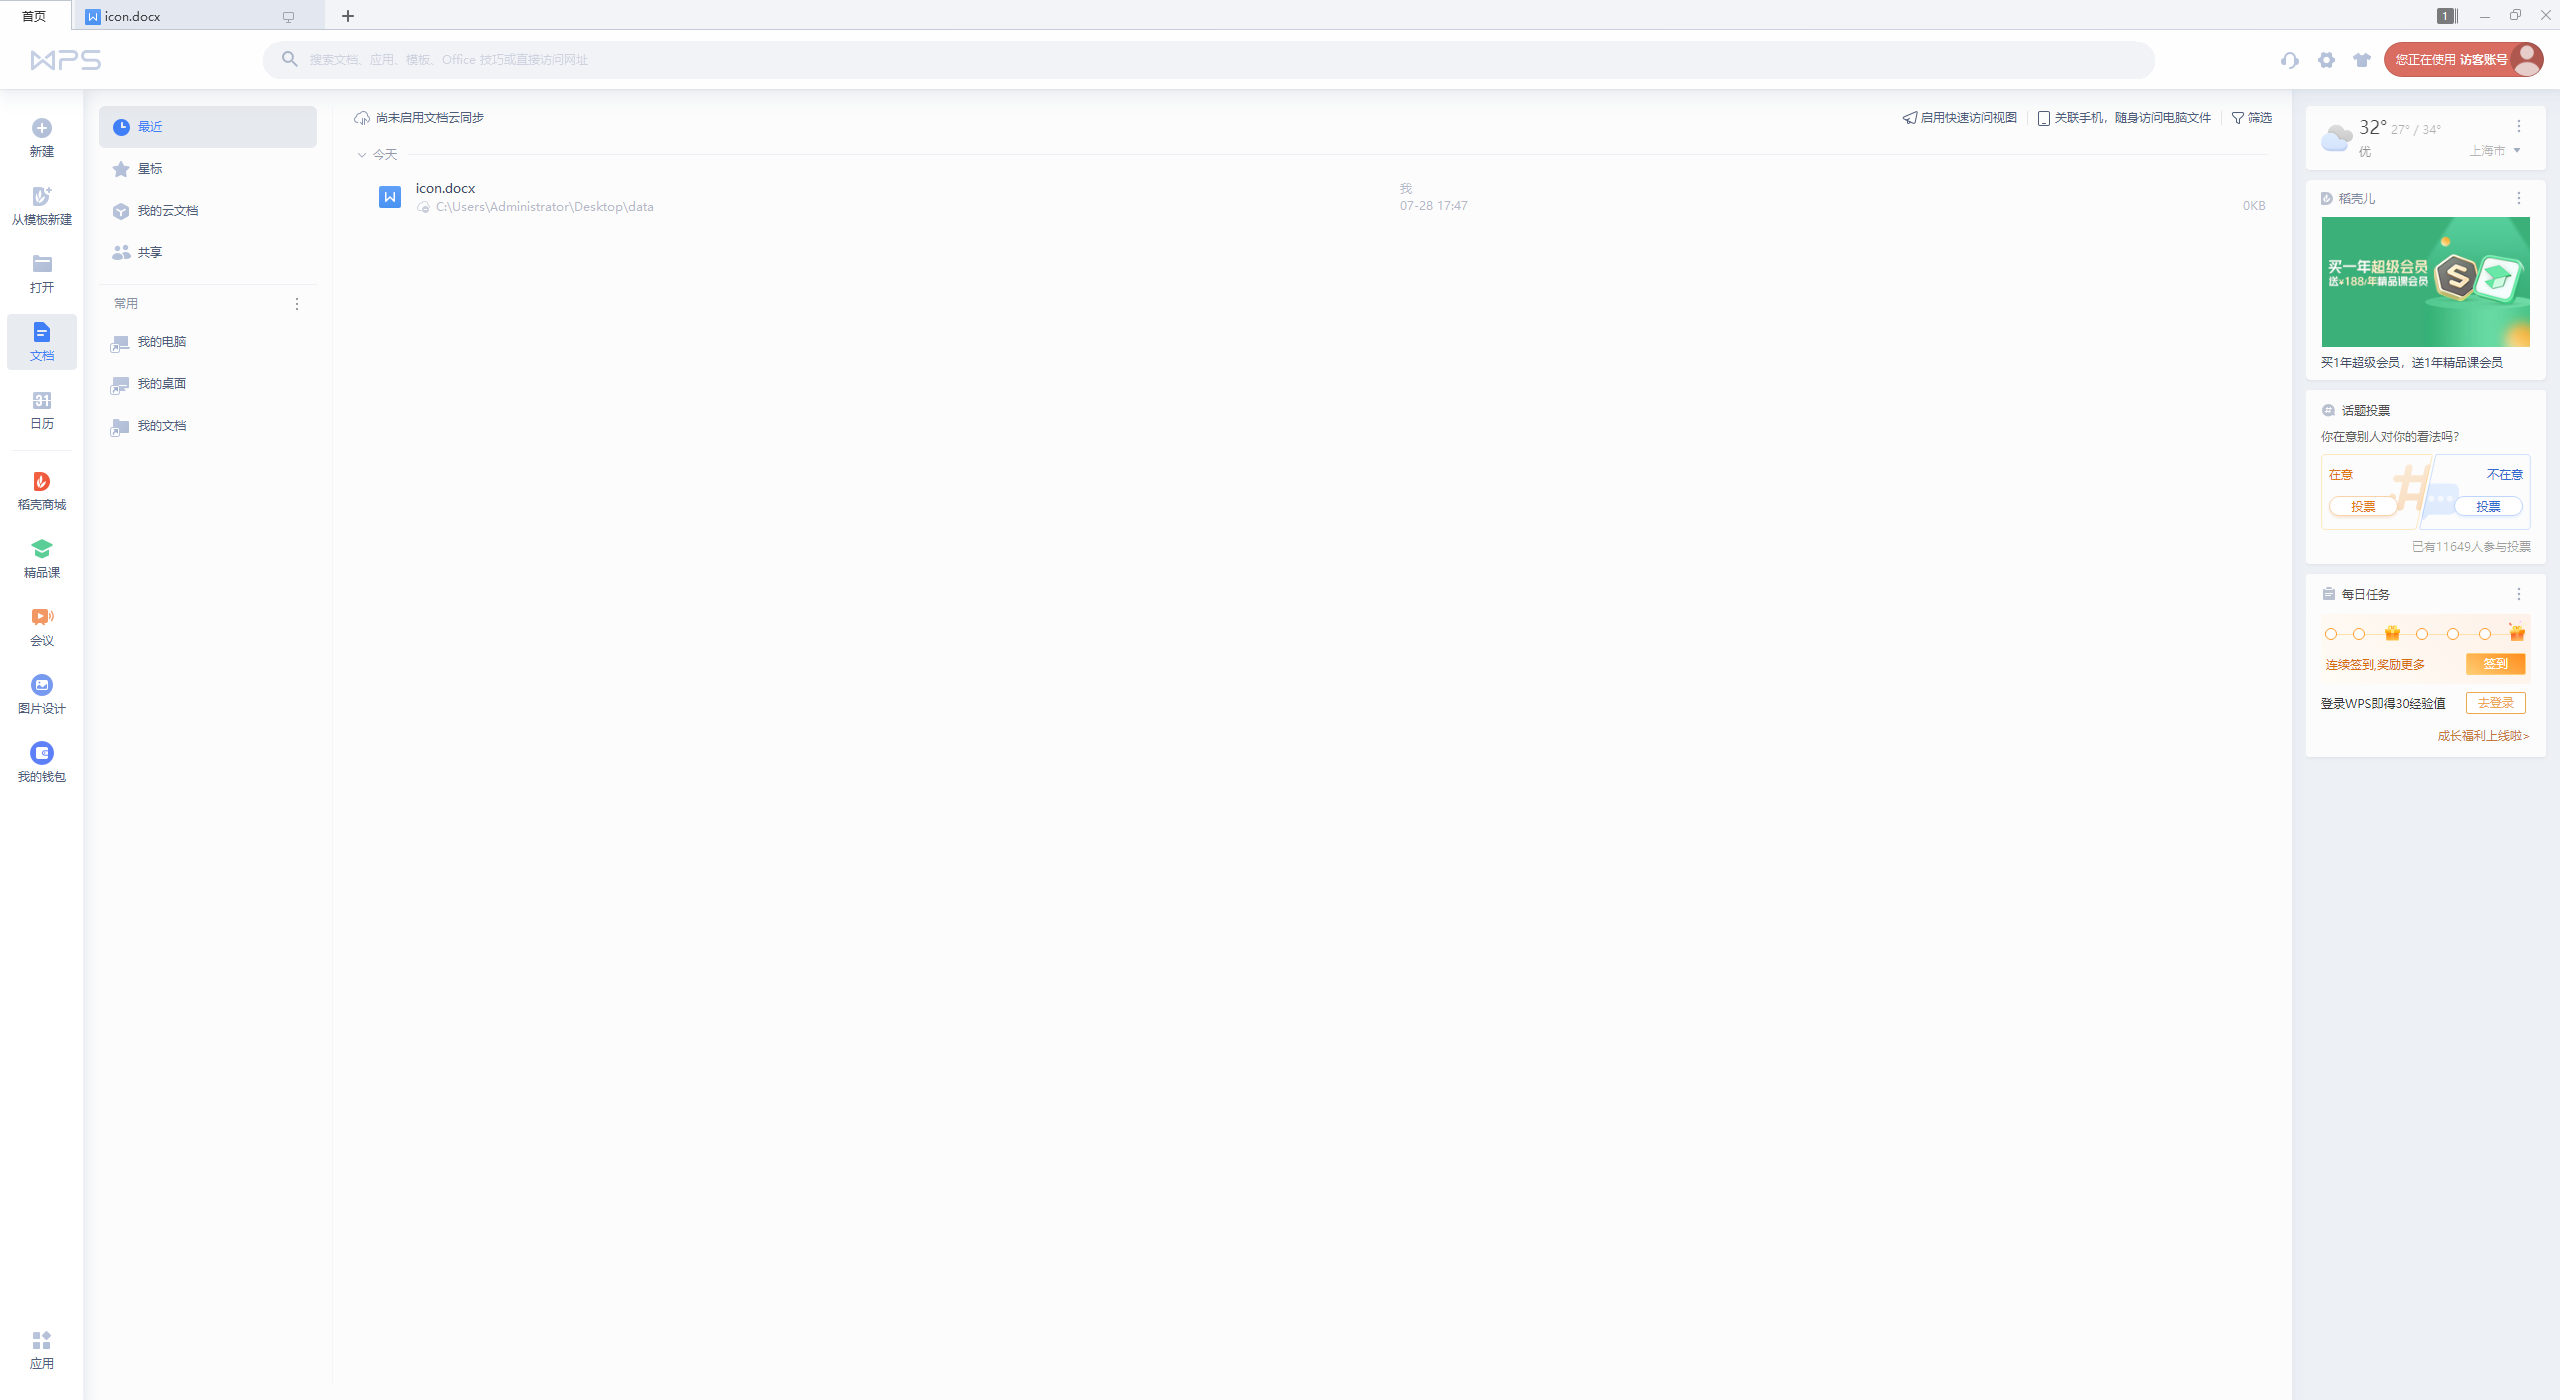character: (310, 48, 596, 72), (2319, 353, 2507, 372), (434, 200, 652, 216), (2057, 109, 2213, 129), (2319, 428, 2463, 445), (2317, 695, 2450, 710), (376, 110, 490, 126), (2410, 540, 2532, 553), (2438, 728, 2532, 745), (1922, 109, 2015, 124), (2326, 659, 2426, 672), (103, 5, 164, 28), (1396, 198, 1476, 214), (5, 210, 76, 228), (136, 416, 193, 434), (136, 372, 191, 391), (17, 497, 72, 516), (136, 202, 203, 217), (2341, 402, 2396, 419), (2343, 586, 2395, 603), (16, 698, 66, 716), (415, 181, 478, 195), (17, 767, 66, 784), (136, 334, 186, 350), (2395, 121, 2448, 134), (26, 278, 57, 295), (2341, 190, 2376, 205), (372, 145, 402, 162), (2479, 695, 2515, 709), (29, 412, 55, 431), (110, 295, 141, 310), (2477, 655, 2512, 669), (2241, 197, 2269, 214), (22, 566, 60, 578), (21, 9, 50, 24), (2467, 145, 2508, 155), (29, 1357, 57, 1372), (26, 350, 55, 364), (136, 160, 162, 176), (28, 145, 55, 159), (140, 119, 164, 134), (28, 634, 53, 648), (2250, 110, 2272, 126), (136, 247, 164, 259), (1395, 183, 1422, 195), (2477, 498, 2500, 512), (2482, 472, 2520, 479), (2327, 471, 2357, 479), (2350, 500, 2372, 510), (2357, 145, 2374, 157)
icon: (2319, 214, 2531, 348), (26, 47, 110, 72), (2432, 252, 2479, 298), (2508, 41, 2544, 78), (2320, 124, 2353, 152), (29, 740, 55, 766), (378, 184, 402, 209), (29, 672, 53, 697), (29, 538, 53, 559), (31, 321, 52, 343), (2434, 5, 2458, 24), (29, 609, 55, 626), (110, 159, 131, 179), (31, 117, 52, 138), (2358, 119, 2386, 134), (31, 471, 52, 491), (2508, 617, 2527, 640), (31, 186, 52, 205), (33, 253, 52, 274), (109, 334, 129, 353), (110, 241, 131, 260), (109, 376, 129, 395), (2281, 50, 2300, 71), (109, 417, 129, 436), (33, 1329, 52, 1350), (2351, 50, 2374, 67), (279, 48, 298, 67), (110, 202, 129, 221), (110, 117, 129, 136), (2476, 7, 2494, 26), (33, 391, 52, 409), (2317, 50, 2334, 69), (353, 109, 371, 126), (2034, 109, 2051, 126), (417, 197, 433, 216), (84, 9, 102, 24), (1901, 109, 1919, 124), (2507, 5, 2524, 21), (340, 7, 355, 22), (2319, 190, 2334, 205), (2320, 402, 2336, 417), (2320, 584, 2336, 600), (2384, 624, 2400, 640), (2538, 7, 2553, 21), (2444, 626, 2460, 640), (2477, 626, 2493, 640), (290, 297, 303, 310), (2231, 110, 2245, 124), (2324, 626, 2338, 640), (2415, 626, 2429, 640), (2351, 626, 2365, 640), (281, 10, 295, 22), (2513, 190, 2524, 205), (2515, 584, 2524, 602), (357, 148, 367, 160), (2512, 145, 2522, 155), (2515, 117, 2522, 133)
